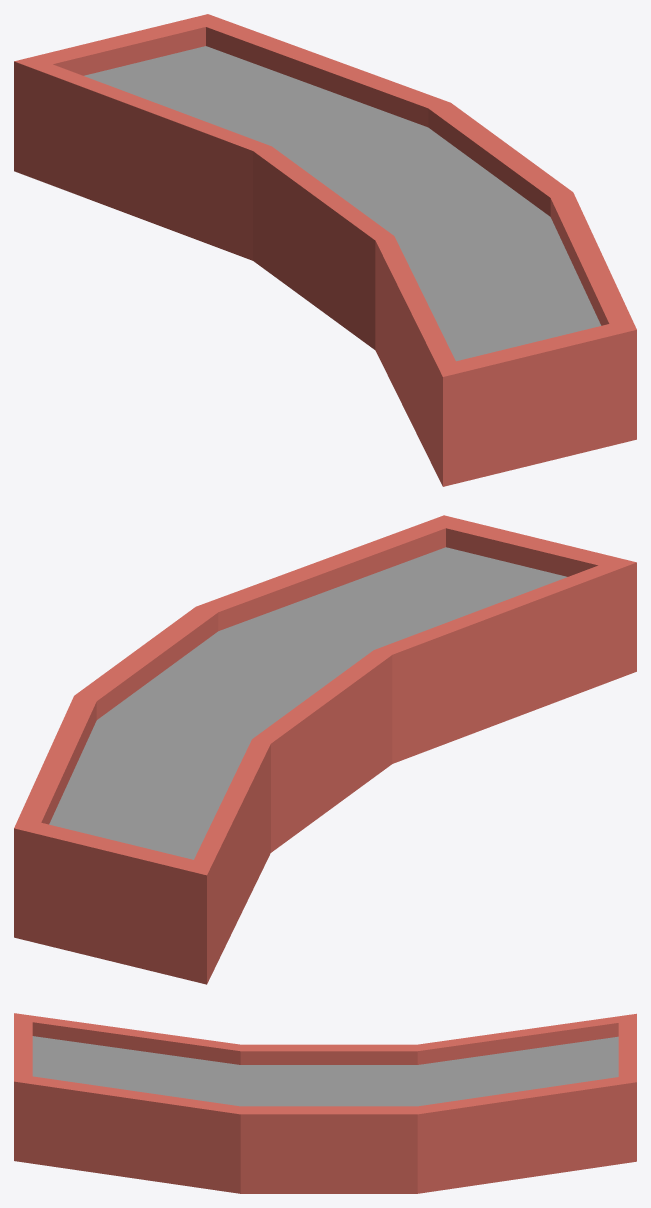
The model's file is Garden5.fbx.
3 renders of one model, top to bottom at view 1: azimuth 30°, elevation 25°; view 2: azimuth 150°, elevation 25°; view 3: azimuth 270°, elevation 25°, orthographic. The views are drawn at different scales.
Parts seen in each view (by area): view 1: Cube; view 2: Cube; view 3: Cube.
Part boxes in pixels (<box>): Cube: <box>14,14,636,486</box>; Cube: <box>14,515,636,984</box>; Cube: <box>14,1013,636,1193</box>.
Bounding box in the file's own units: 68.94 × 25.22 × 179.
